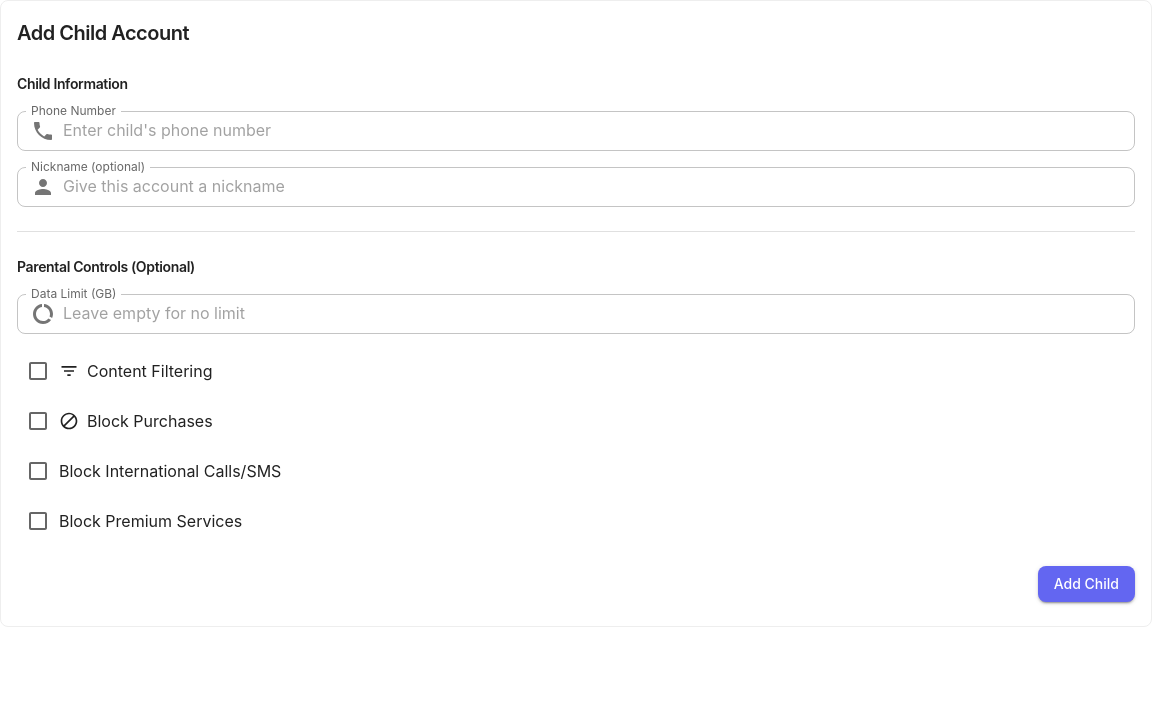
AddChildForm › form validation › shows error when phone number is empty
The width and height of the screenshot is (1152, 720).
Step 1. Click the button "Add Child" → click(1086, 584), box [1038, 566, 1135, 602]
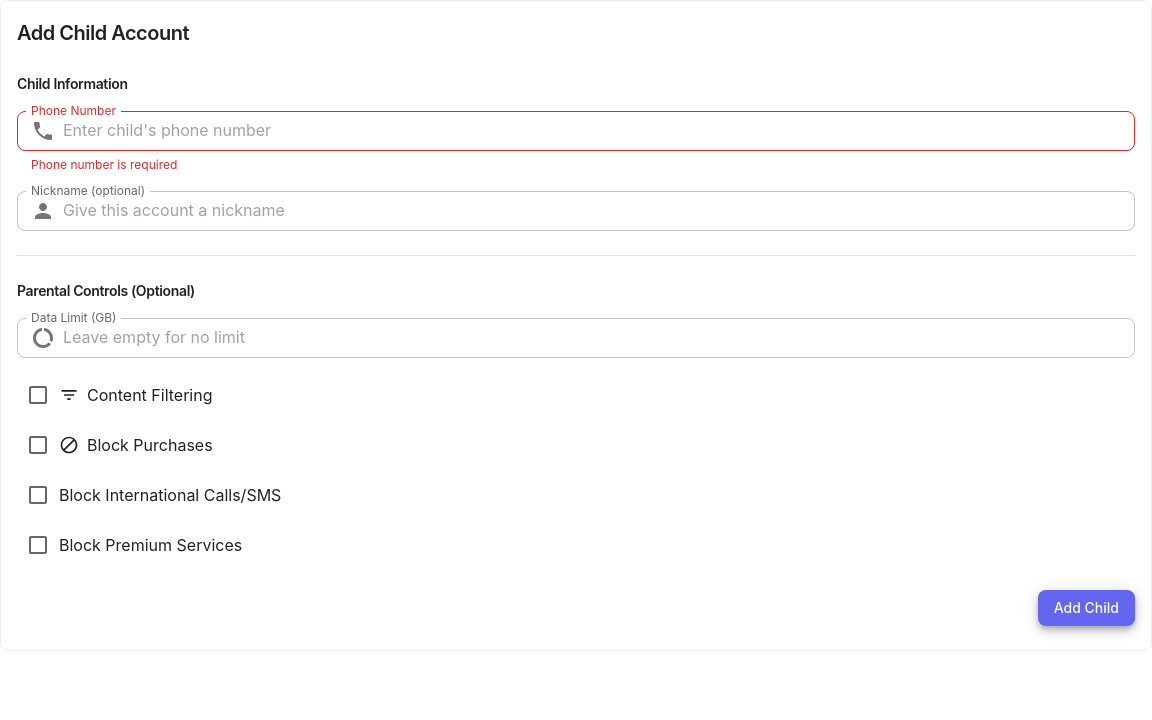
Check: the text "Phone number is required" is shown, box [31, 157, 177, 172]
